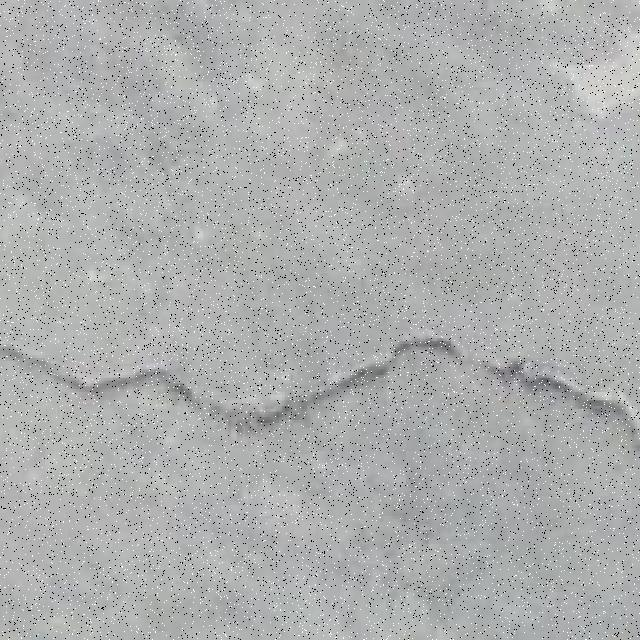severe crack: (2, 336, 638, 452)
